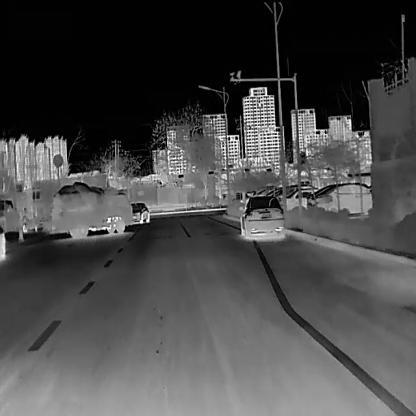car: (51, 180, 131, 238), (307, 181, 371, 217), (238, 195, 285, 239), (277, 188, 315, 211), (130, 201, 148, 223)
